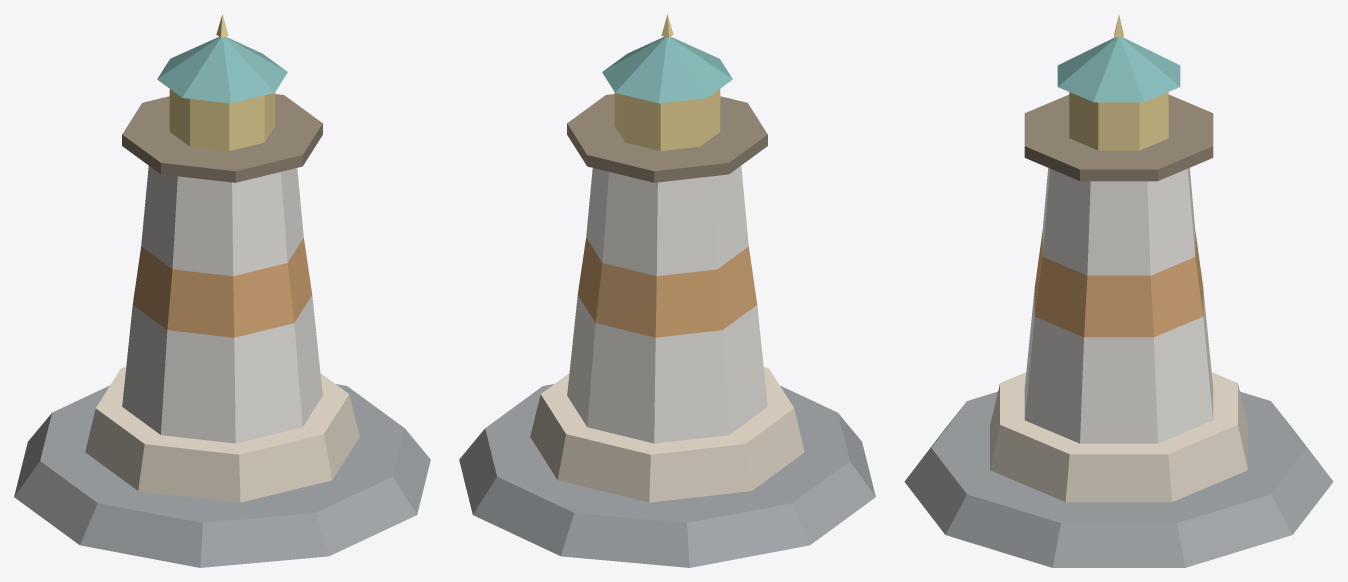
The model's file is azania-lighthouse.glb.
The picture shows the model from 3 angles, left to right: view 1: azimuth 30°, elevation 25°; view 2: azimuth 150°, elevation 25°; view 3: azimuth 270°, elevation 25°; orthographic projection.
Visible parts, largest first — view 1: part-0, part-2, part-1, part-4, part-3, part-5, part-7, part-6; view 2: part-0, part-2, part-1, part-4, part-3, part-5, part-7, part-6; view 3: part-0, part-2, part-1, part-4, part-3, part-5, part-7, part-6.
Part boxes in pixels (x1,y1,x2,y2): part-0: (14,384,430,567); part-2: (122,295,322,443); part-1: (85,367,359,502); part-4: (141,166,303,276); part-3: (132,237,312,337); part-5: (122,94,322,182); part-7: (157,36,287,103); part-6: (169,89,275,151); part-0: (459,384,875,567); part-2: (567,295,767,443); part-1: (530,367,804,502); part-4: (586,166,748,276); part-3: (577,237,757,337); part-5: (567,94,767,182); part-7: (602,36,732,103); part-6: (614,89,720,151); part-0: (904,391,1333,567); part-2: (1024,290,1213,443); part-1: (990,372,1247,502); part-4: (1042,168,1195,275); part-3: (1034,231,1203,337); part-5: (1024,94,1213,181); part-7: (1057,37,1180,102); part-6: (1069,92,1168,150).
Bounding box in the file's own units: 3.8 × 4.81 × 4.
